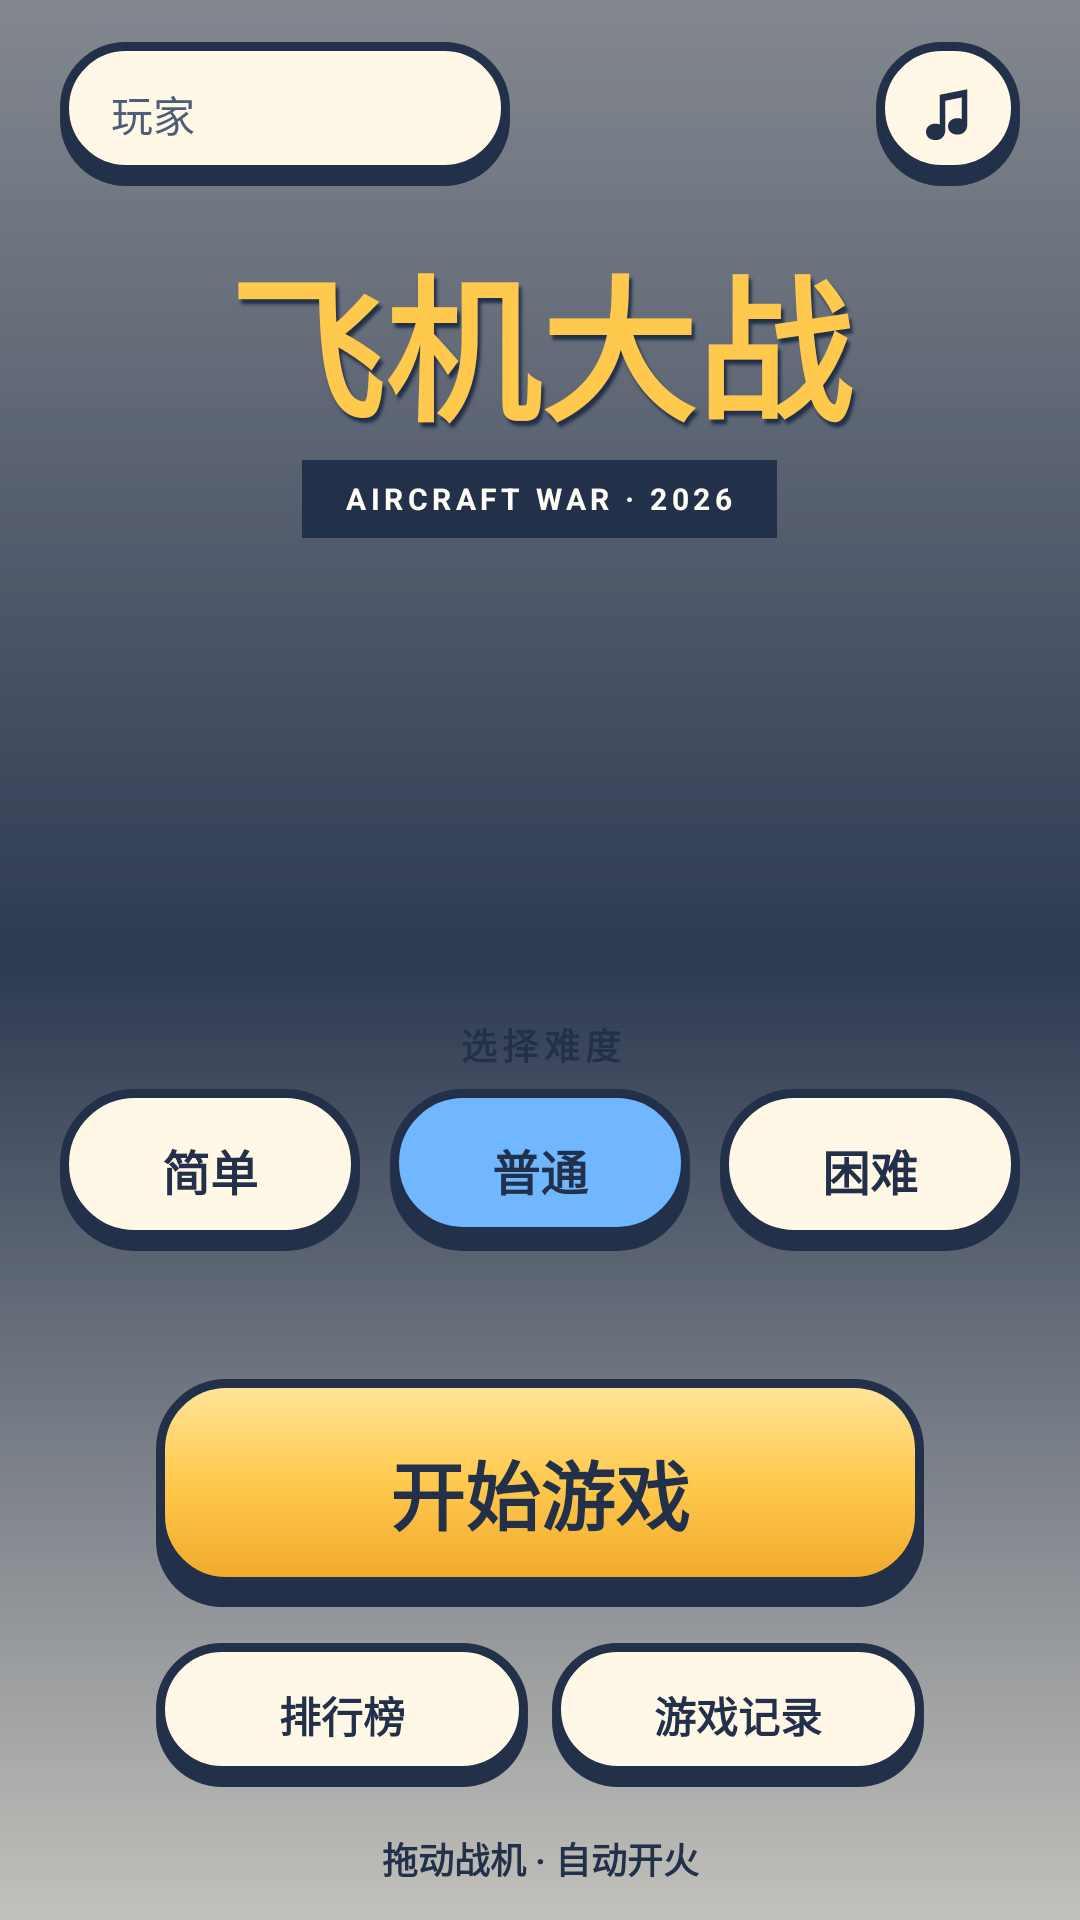

Icon click points for this 1080px x 1920px phone screenshot, format (x,y):
music: (948,114)
